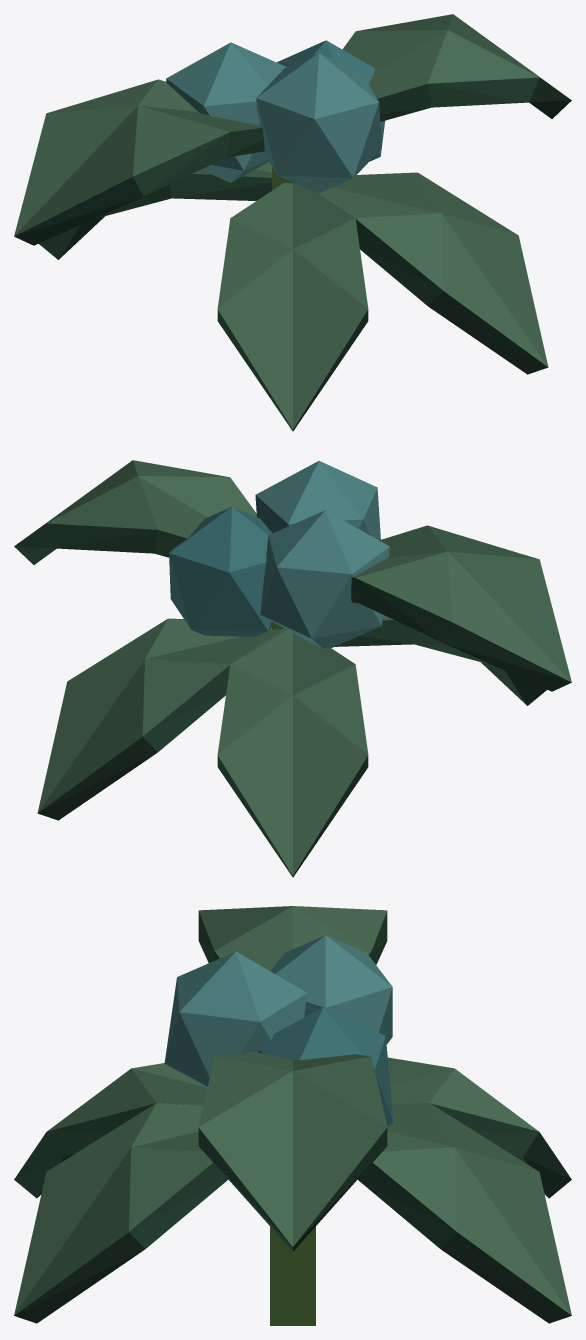
File: healroot_1.obj
3 views of the same model, one above another, from view 1: azimuth 30°, elevation 25°; view 2: azimuth 150°, elevation 25°; view 3: azimuth 270°, elevation 25° (orthographic). The views are drawn at different scales.
Parts seen in each view (by area): view 1: healroot_1; view 2: healroot_1; view 3: healroot_1.
Part boxes in pixels (x1,y1,x2,y2): healroot_1: (14, 14, 571, 431); healroot_1: (14, 460, 571, 877); healroot_1: (14, 906, 571, 1325).
Size of the model in its own units: 0.5807 by 0.336 by 0.4606.
